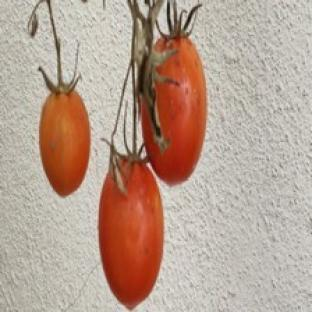Tomato: (99, 161, 164, 309), (143, 37, 207, 185), (39, 91, 90, 196)
